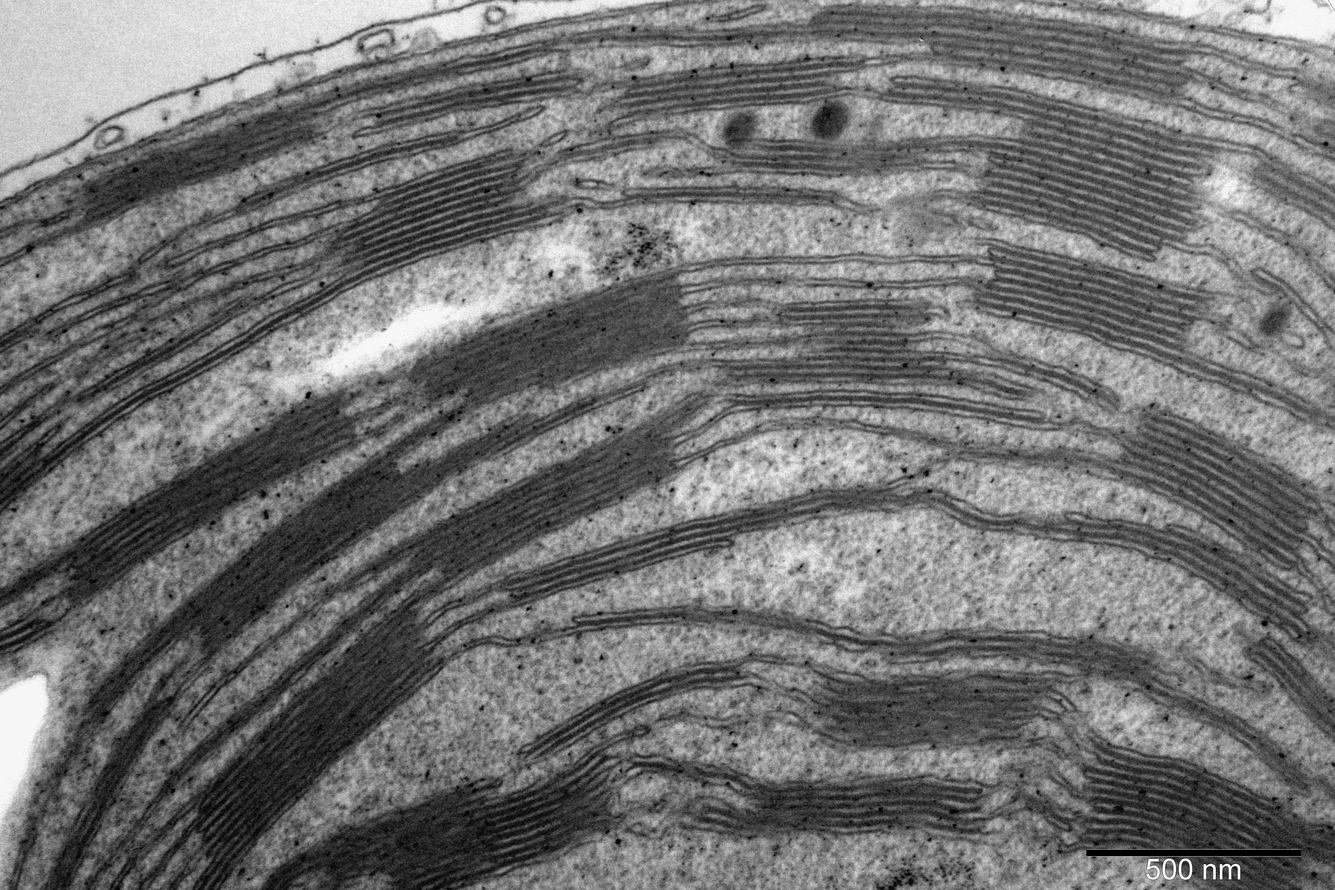granum: (78, 404, 550, 733), (188, 596, 448, 889), (43, 386, 365, 616), (876, 72, 1225, 264), (405, 389, 713, 592), (497, 480, 891, 611), (304, 747, 630, 890), (401, 261, 696, 416), (805, 1, 1195, 111), (1076, 731, 1335, 890), (1107, 397, 1329, 574), (319, 145, 582, 293), (1056, 508, 1320, 649), (966, 236, 1226, 373), (74, 91, 321, 233), (38, 691, 182, 890), (876, 622, 1188, 710), (514, 654, 747, 768), (673, 768, 989, 847), (709, 292, 954, 390), (811, 661, 1057, 756), (617, 53, 839, 127), (369, 66, 586, 137), (1237, 631, 1335, 745), (721, 132, 933, 181), (1246, 144, 1334, 238), (0, 441, 59, 517), (0, 606, 58, 660), (1284, 62, 1333, 115)
